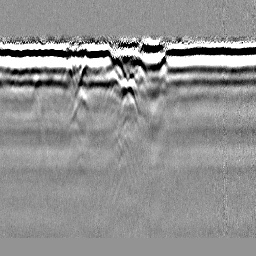cavity: (117, 79, 140, 115)
